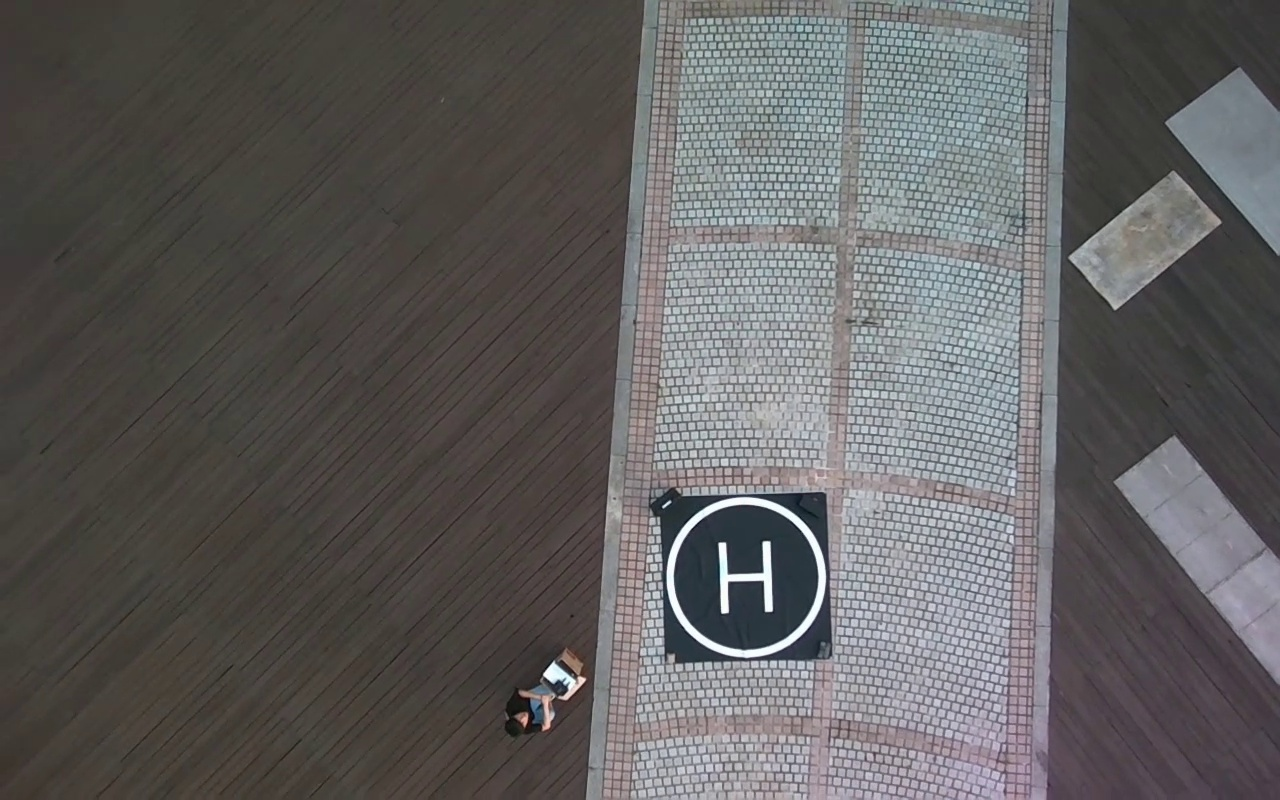H: (717, 540, 774, 614)
heliport: (667, 498, 826, 656)
